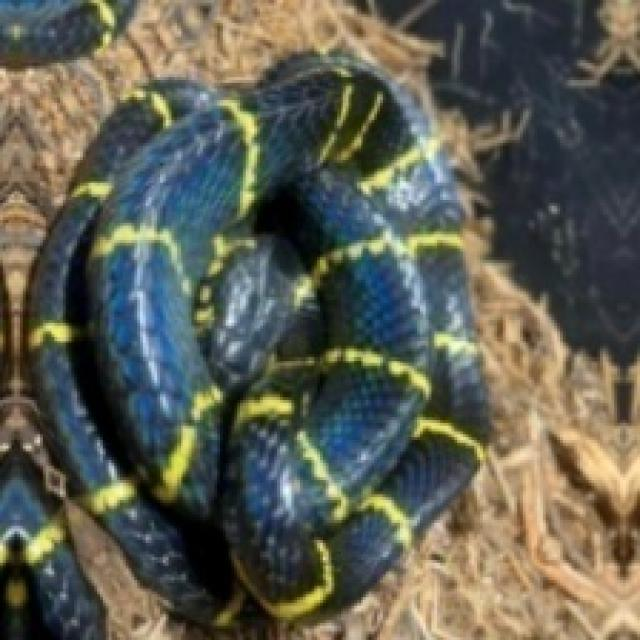mangrove cat snake: (29, 54, 486, 623)
